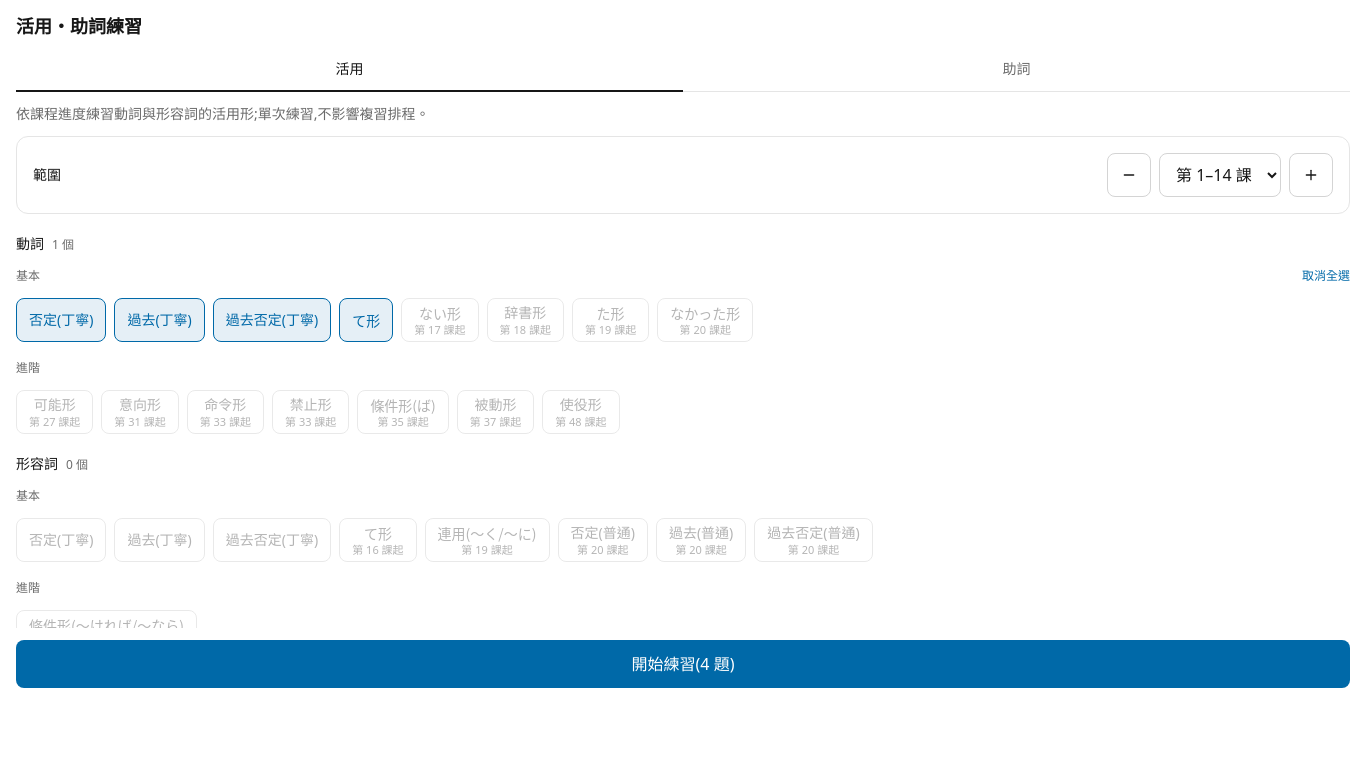
Scenario: DrillPage 設定:範圍 › 取消全部的形:不能開始並提示
Click the button "否定(丁寧)" below "1 個". click: (61, 320)
box: left=16, top=298, right=106, bottom=342
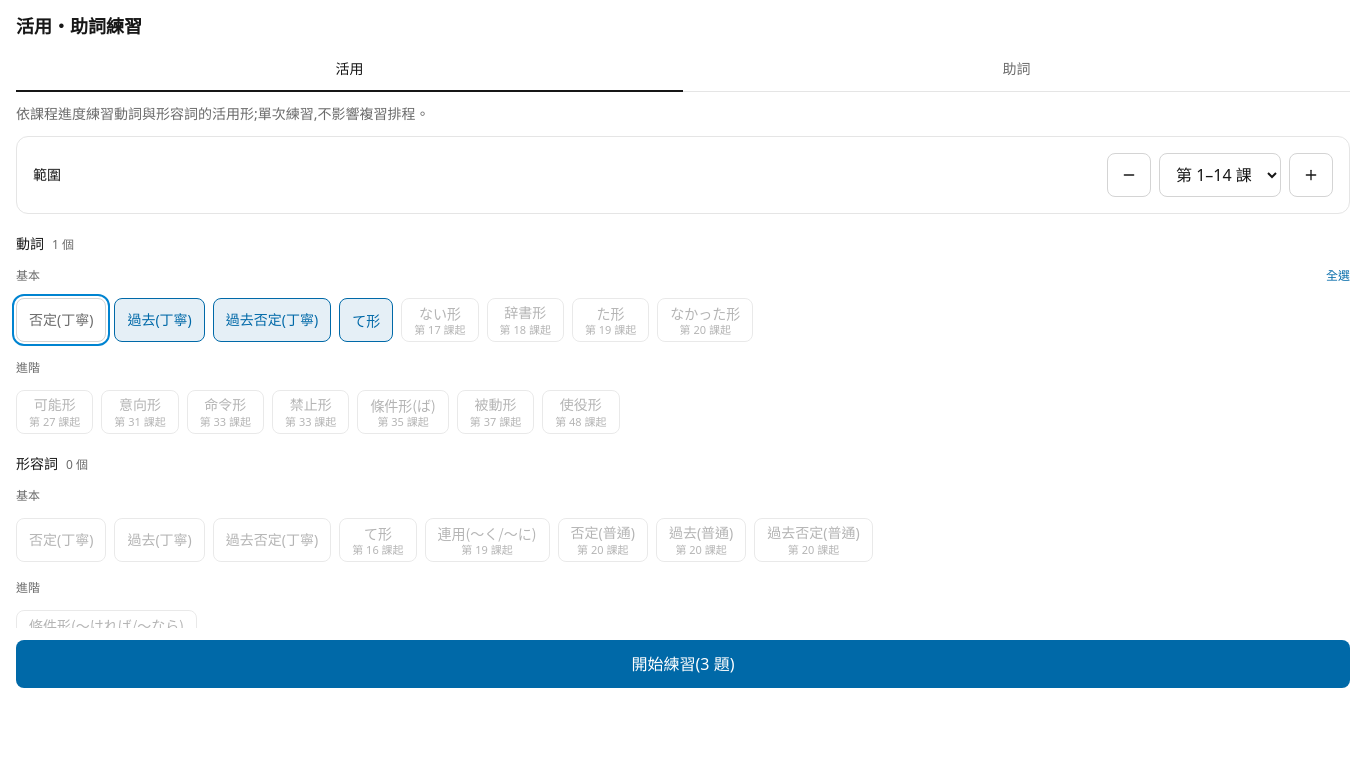
Click the button "過去(丁寧)" below "1 個". click: (160, 320)
box: left=114, top=298, right=205, bottom=342
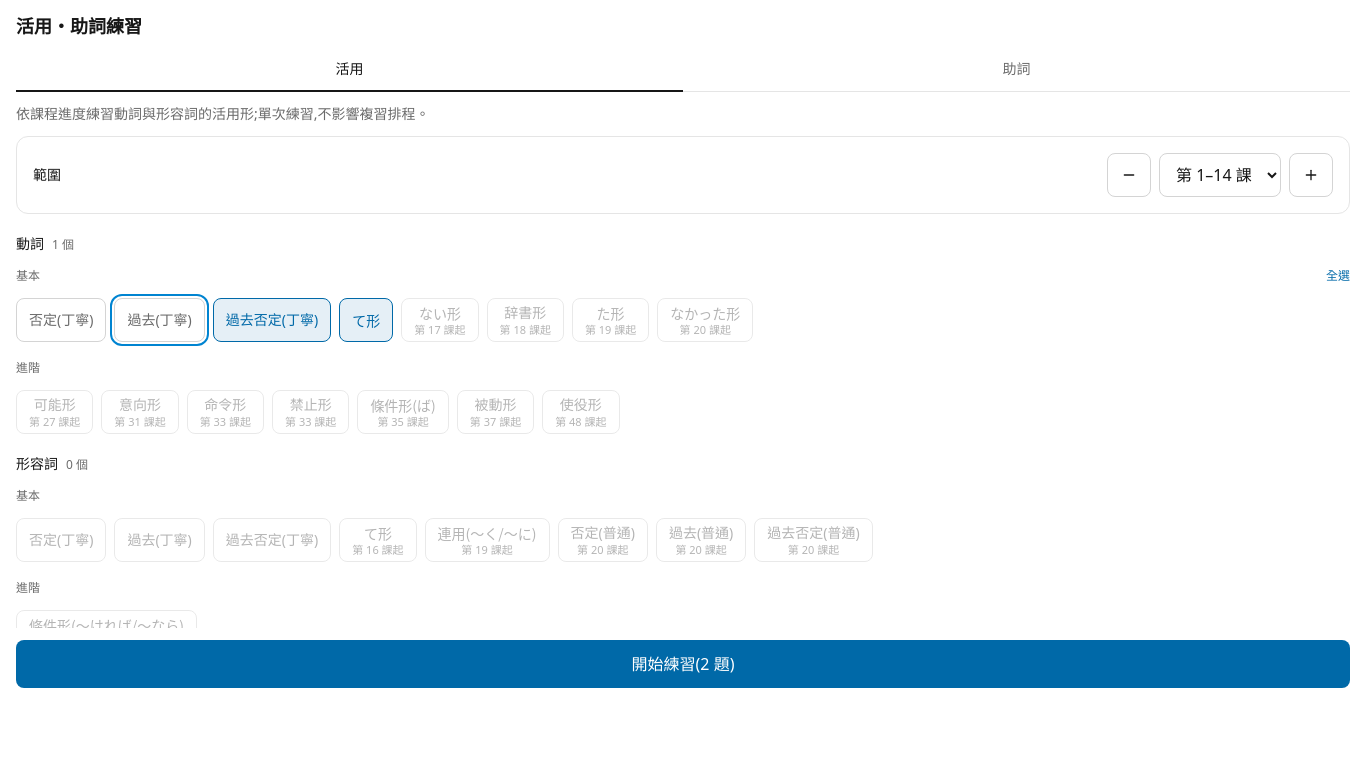
Click the button "過去否定(丁寧)" below "1 個". click: (272, 320)
box: left=213, top=298, right=331, bottom=342
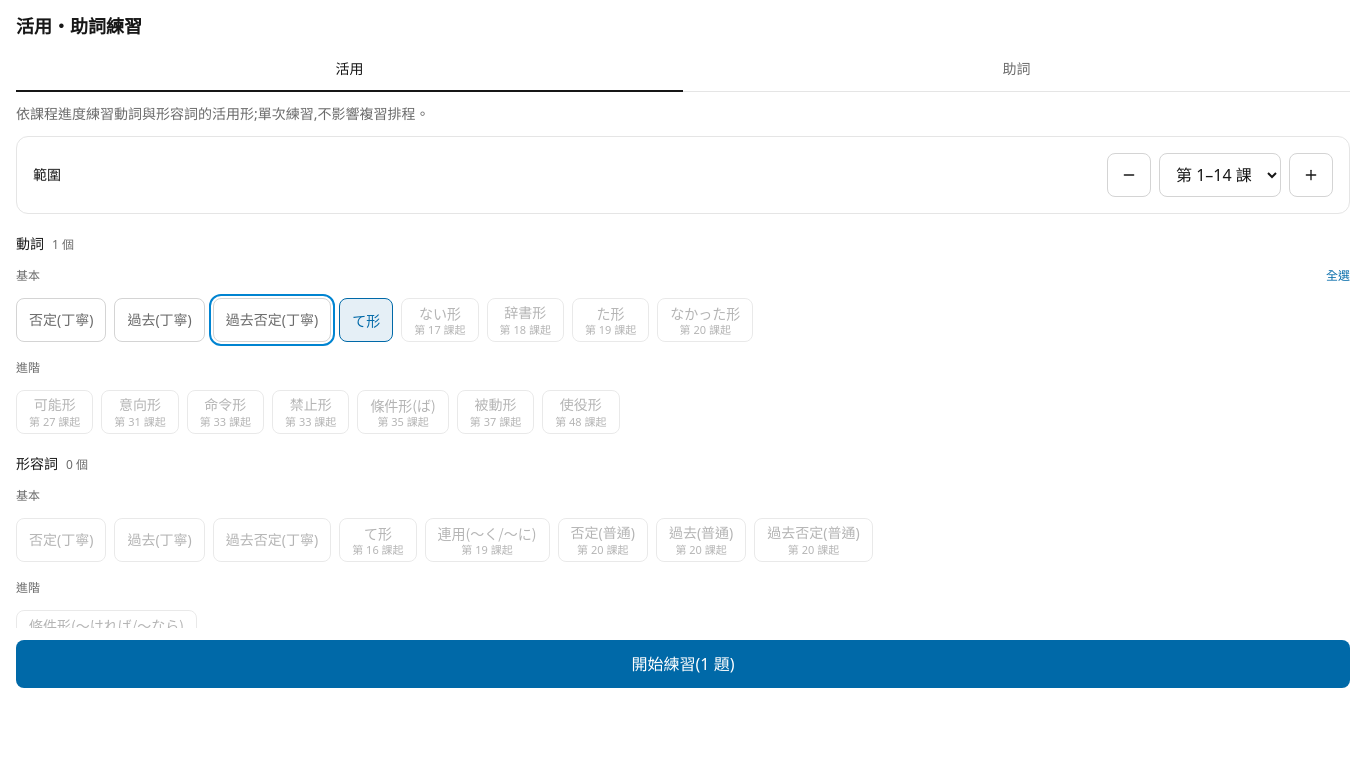
Click the button "て形". click: (366, 320)
box: left=339, top=298, right=393, bottom=342
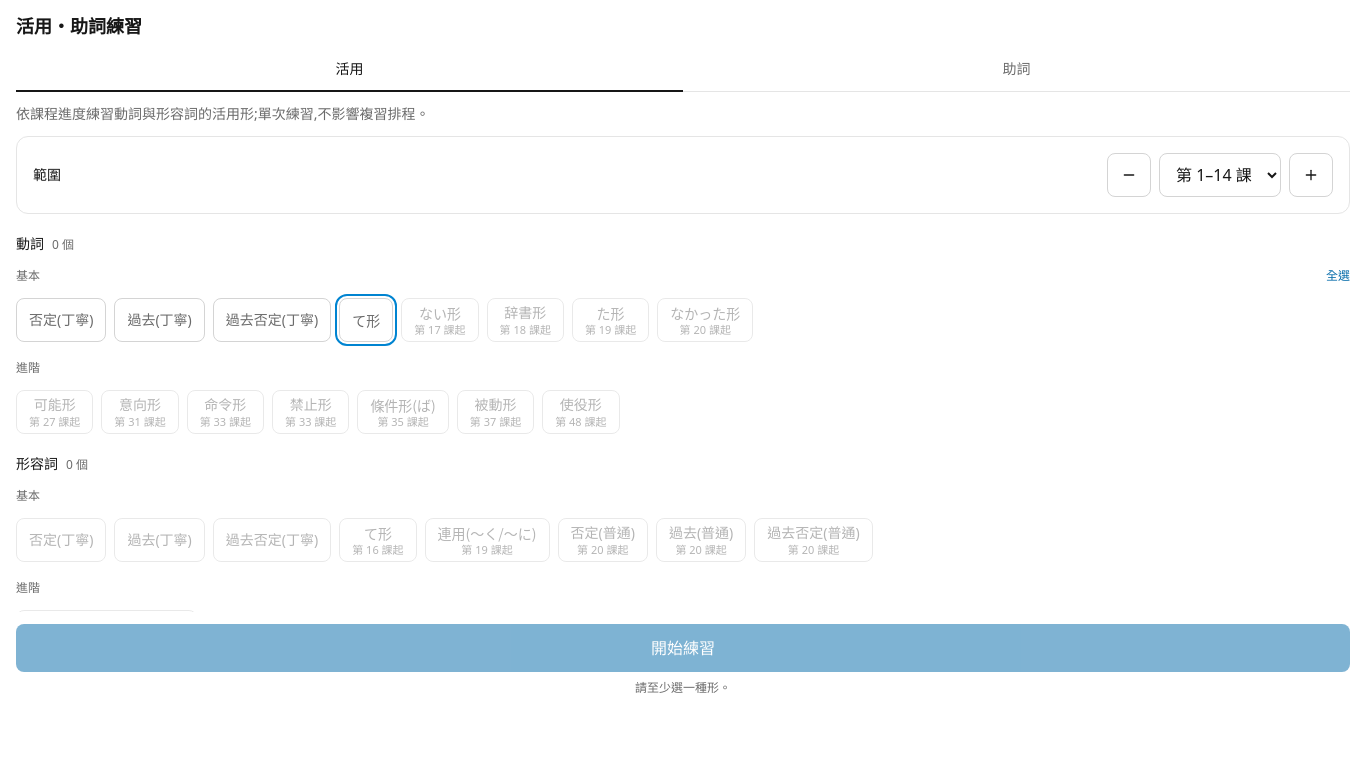
Expected: the text "請至少選一種形。" is shown, left=635, top=679, right=731, bottom=696
Expected: the button "開始練習" is disabled, left=16, top=624, right=1350, bottom=672
